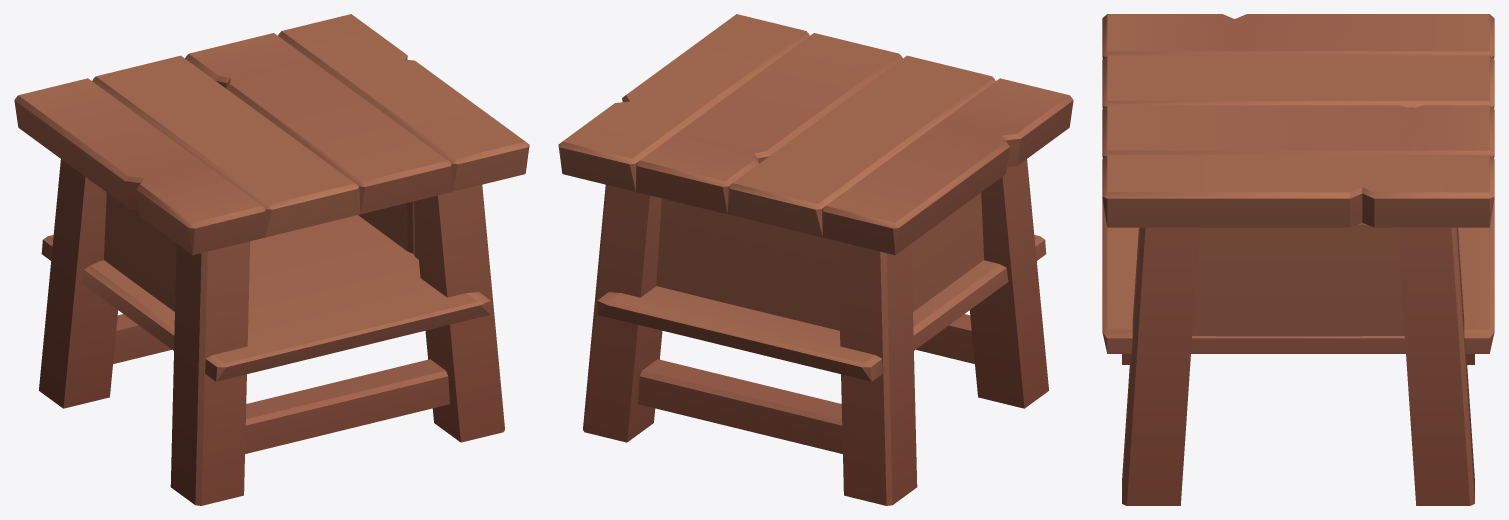
Rendered from drawer_desk.glb.
3 renders of one model, left to right at view 1: azimuth 30°, elevation 25°; view 2: azimuth 150°, elevation 25°; view 3: azimuth 270°, elevation 25°, orthographic. The views are drawn at different scales.
Visible parts, largest first — view 1: drawer_table; view 2: drawer_table; view 3: drawer_table.
Boxes of the visible parts, bbox=[...] form: drawer_table: bbox=[14, 14, 529, 505]; drawer_table: bbox=[558, 14, 1073, 505]; drawer_table: bbox=[1102, 14, 1494, 505].
Size of the model in its own units: 2.2 by 1.8 by 2.
Materials: 1 (1 with a texture image).
